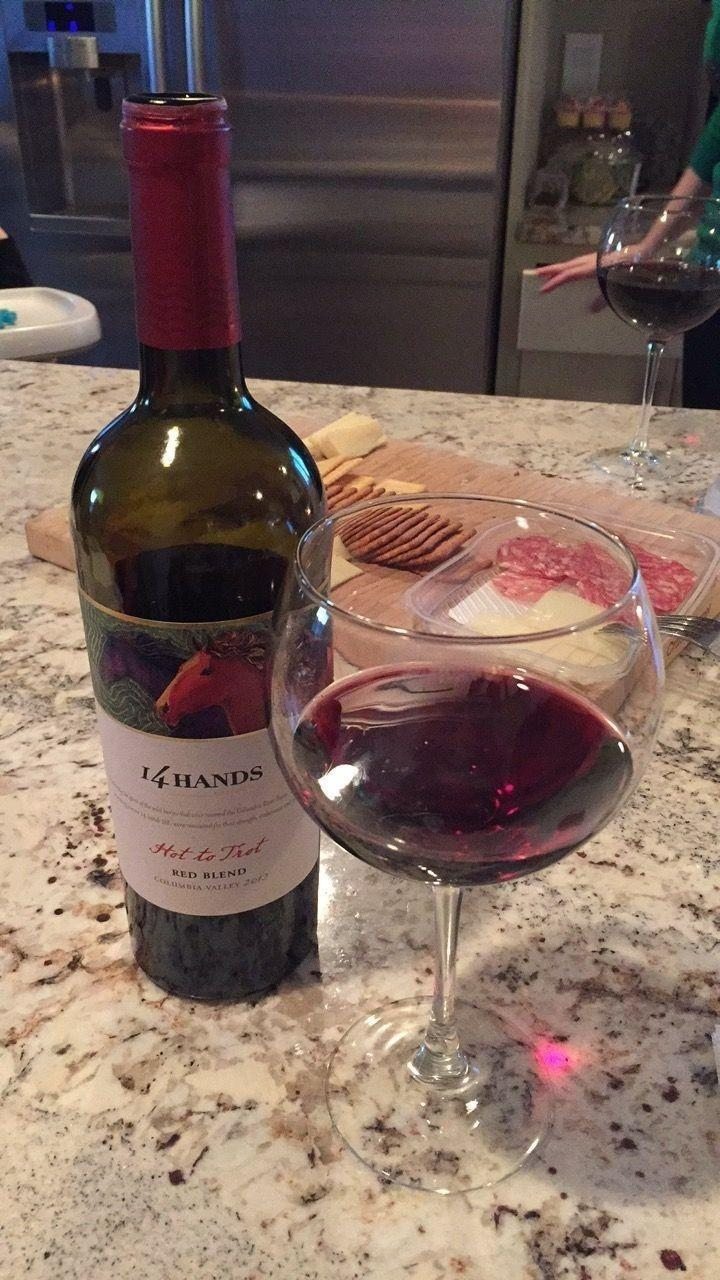bottle-glass: (67, 78, 335, 999)
glass-wine: (264, 495, 667, 1185), (586, 190, 719, 491)
